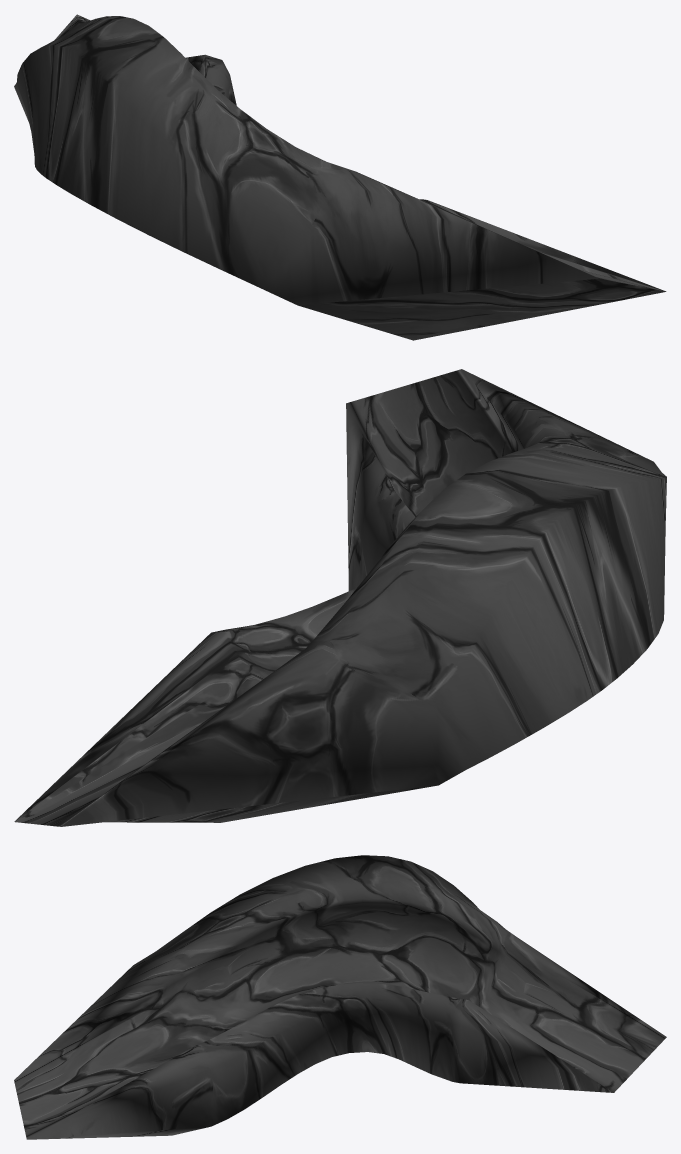
The model's file is FBXburmShort.fbx.
3 views of the same model, one above another, from view 1: azimuth 30°, elevation 25°; view 2: azimuth 150°, elevation 25°; view 3: azimuth 270°, elevation 25° (orthographic). The views are drawn at different scales.
Parts seen in each view (by area): view 1: SMburmShort; view 2: SMburmShort; view 3: SMburmShort.
Part boxes in pixels (x1,y1,x2,y2): SMburmShort: (14,14,666,340); SMburmShort: (14,369,666,826); SMburmShort: (14,855,666,1139).
Bounding box in the file's own units: 2112 × 1257 × 3678.
